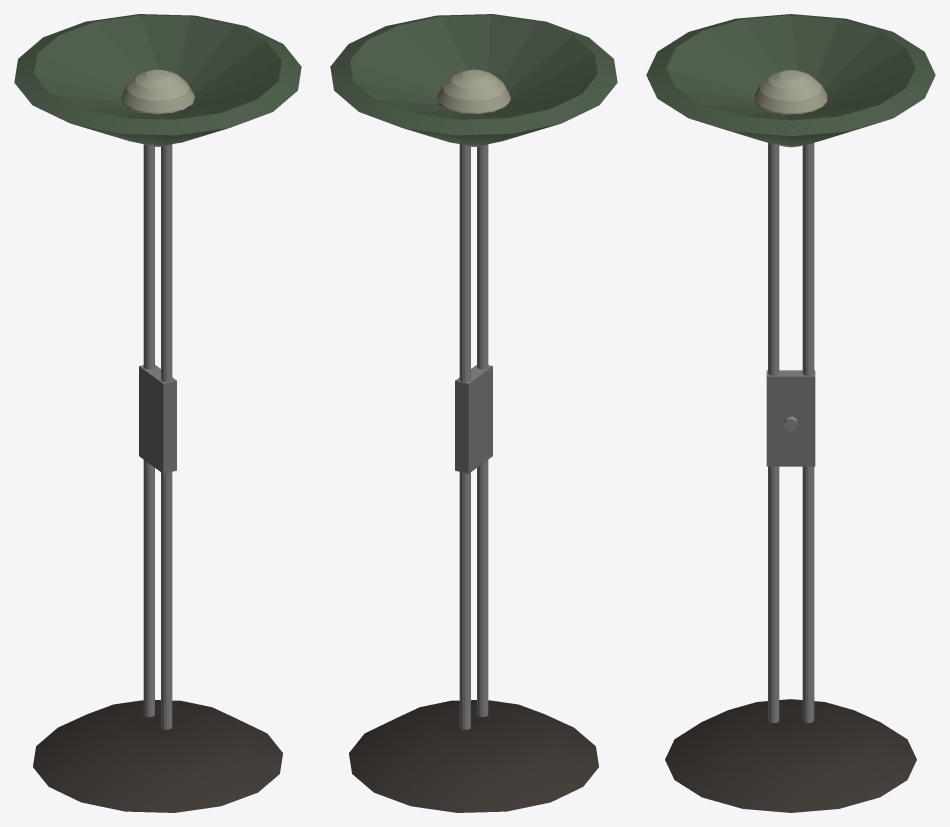
Rendered from Lamp_80s_v1.fbx.
3 views of the same model, side by side, from view 1: azimuth 30°, elevation 25°; view 2: azimuth 150°, elevation 25°; view 3: azimuth 270°, elevation 25° (orthographic).
Parts seen in each view (by area): view 1: M_Lamp_80s; view 2: M_Lamp_80s; view 3: M_Lamp_80s.
Part boxes in pixels (x1,y1,x2,y2): M_Lamp_80s: (14, 14, 301, 812); M_Lamp_80s: (330, 14, 617, 812); M_Lamp_80s: (646, 14, 935, 812).
Bounding box in the file's own units: 2.92 × 7.69 × 2.92.
